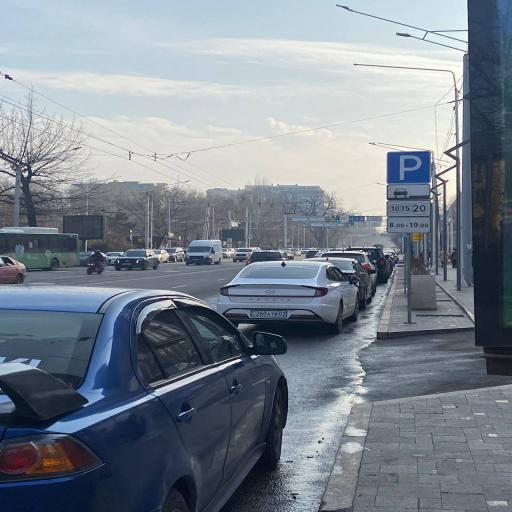book: (0, 280, 298, 512), (218, 257, 368, 341)
elevator: (463, 0, 512, 385)
glass_wall: (346, 256, 512, 512)
